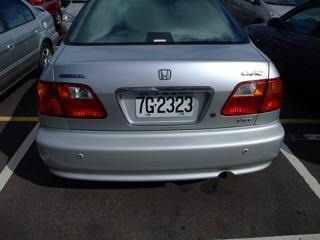plate: (133, 90, 194, 117)
